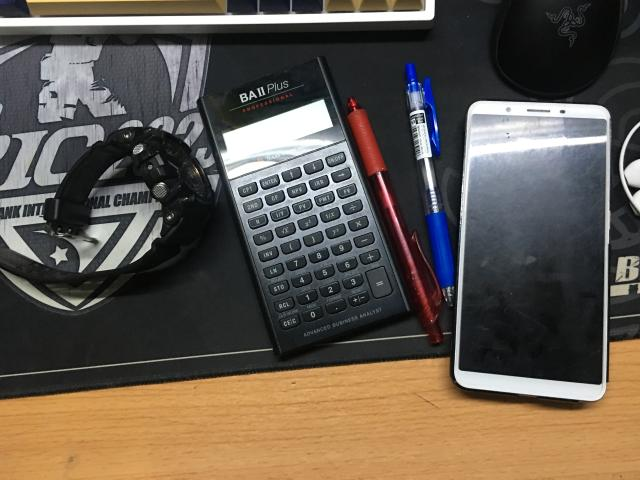Mobile phone: (451, 101, 611, 401)
Mouse: (491, 0, 624, 99)
Pen: (348, 98, 444, 344), (406, 64, 455, 306)
Watch: (0, 128, 214, 284)
wire: (619, 122, 640, 215)
